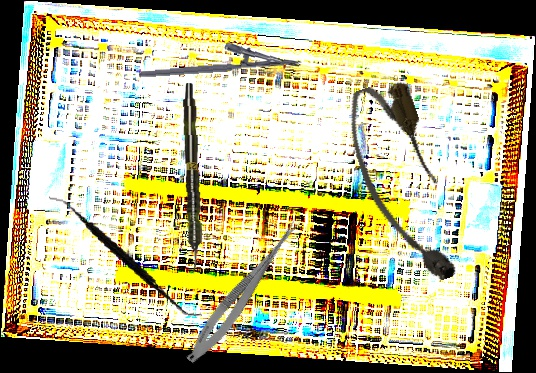Cannula: (337, 75, 469, 294)
Handpiece: (180, 82, 204, 274)
Micro Scissor: (181, 211, 306, 370)
Needle Holder: (137, 37, 302, 79)
Spatula Surgical: (34, 194, 217, 318)
